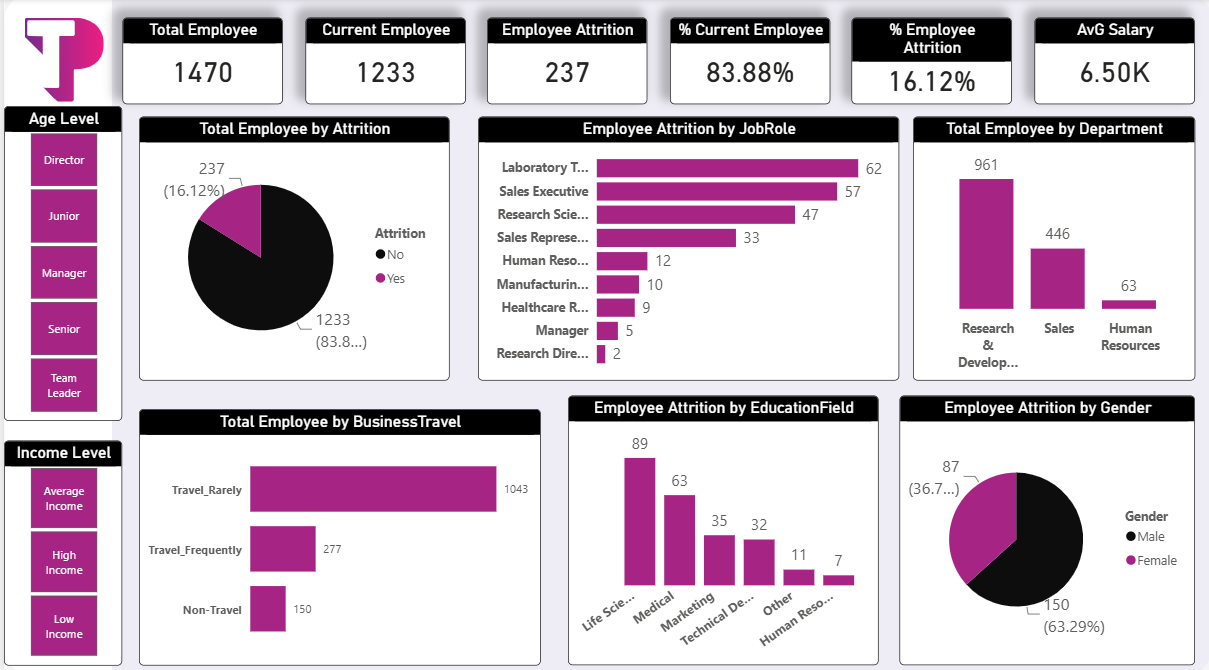

The page's visual inventory and layout, read from the dashboard file:
{"tool":"powerbi","page":{"name":"Employee","canvas":[1280,720],"ordinal":0},"visuals":[{"type":"card","title":"Total Employee","fields":{"Values":["_Measure.Total Employee"]},"box":[125.7,20.7,170.2,92.3],"z":0},{"type":"card","title":"Current Employee","fields":{"Values":["_Measure.Current Employee"]},"box":[319.1,20.7,170.2,92.3],"z":1000},{"type":"card","title":"Employee Attrition","fields":{"Values":["_Measure.Employee Attrition"]},"box":[512.6,21,170,92.3],"z":2000},{"type":"card","title":"% Current Employee","fields":{"Values":["_Measure.% Current Employee"]},"box":[705.8,20.7,170.2,92.3],"z":3000},{"type":"card","title":"AvG Salary","fields":{"Values":["_Measure.AvG Salary"]},"box":[1092.7,20.7,170.2,92.3],"z":4000},{"type":"card","title":"% Employee Attrition","fields":{"Values":["_Measure.% Employee Atrrition"]},"box":[899.3,20.7,170.2,92.3],"z":5000},{"type":"pieChart","fields":{"Category":["DimAttrition.Attrition"],"Y":["_Measure.Total Employee"]},"box":[143.2,125.7,329.3,279.9],"z":6000},{"type":"barChart","fields":{"Category":["DimBusinessTravel.BusinessTravel"],"Y":["_Measure.Total Employee"]},"box":[143.2,435.8,426.3,272],"z":7000},{"type":"barChart","fields":{"Category":["DimJobRole.JobRole"],"Y":["_Measure.Employee Attrition"]},"box":[502.6,125.7,447,279.9],"z":8000},{"type":"pieChart","fields":{"Y":["_Measure.Employee Attrition"],"Category":["DimGender.Gender"]},"box":[949.6,421.5,313.4,286.3],"z":9000},{"type":"clusteredColumnChart","fields":{"Y":["_Measure.Total Employee"],"Category":["DimDepartment.Department"]},"box":[963.9,125.7,299,279.9],"z":10000},{"type":"columnChart","fields":{"Category":["DimEducationField.EducationField"],"Y":["_Measure.Employee Attrition"]},"box":[598.1,421.5,329.3,286.3],"z":11000},{"type":"slicer","title":"Age Level","fields":{"Values":["FactEmployee.Age Level"]},"box":[0,114.5,125.7,334],"z":12000},{"type":"slicer","title":"Income Level","fields":{"Values":["FactEmployee.Monthly Income Level"]},"box":[0,469.2,125.7,238.6],"z":13000},{"type":"image","box":[11.1,20.7,105,89.1],"z":14000}]}

Visuals, with their boxes in screenshot pixels (x1, y1, x2, y2), scaled from the page's 1280x720 canvas onto the 1209x670 screenshot:
"Total Employee" card: rect(119, 19, 279, 105)
"Current Employee" card: rect(301, 19, 462, 105)
"Employee Attrition" card: rect(484, 20, 645, 105)
"% Current Employee" card: rect(667, 19, 827, 105)
"AvG Salary" card: rect(1032, 19, 1193, 105)
"% Employee Attrition" card: rect(849, 19, 1010, 105)
pieChart - DimAttrition.Attrition x _Measure.Total Employee: rect(135, 117, 446, 377)
barChart - DimBusinessTravel.BusinessTravel x _Measure.Total Employee: rect(135, 406, 538, 659)
barChart - DimJobRole.JobRole x _Measure.Employee Attrition: rect(475, 117, 897, 377)
pieChart - _Measure.Employee Attrition x DimGender.Gender: rect(897, 392, 1193, 659)
clusteredColumnChart - _Measure.Total Employee x DimDepartment.Department: rect(910, 117, 1193, 377)
columnChart - DimEducationField.EducationField x _Measure.Employee Attrition: rect(565, 392, 876, 659)
"Age Level" slicer: rect(0, 107, 119, 417)
"Income Level" slicer: rect(0, 437, 119, 659)
image: rect(10, 19, 110, 102)
